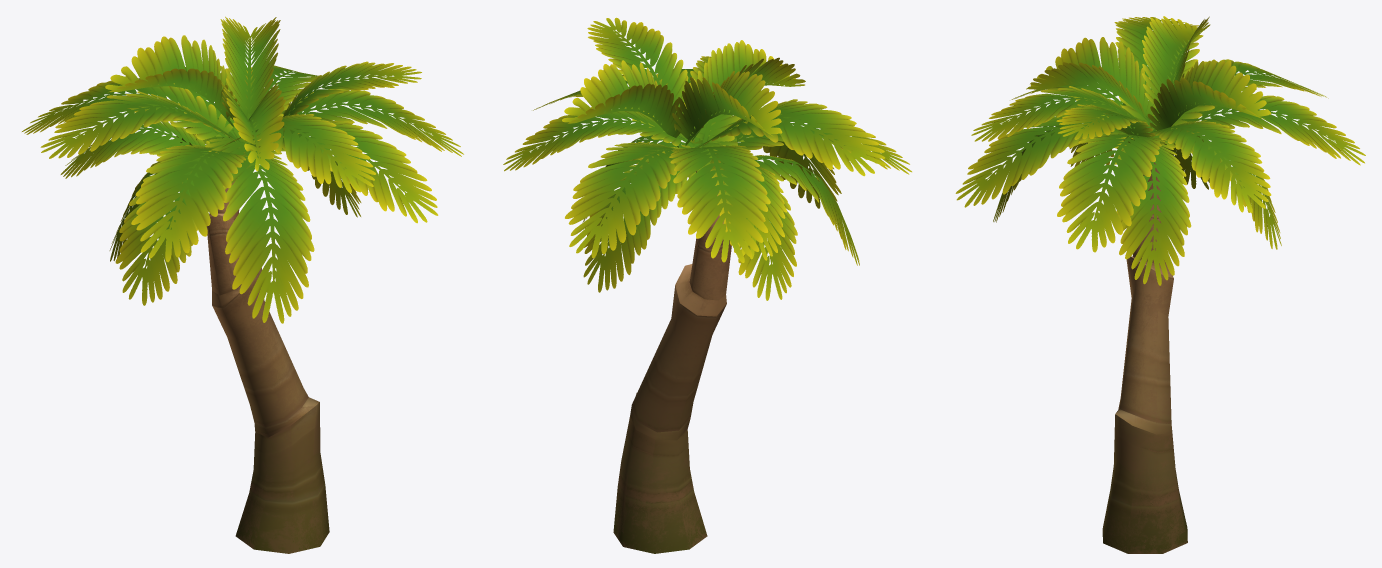
Rendered from PalmTree02.fbx.
3 renders of one model, left to right at view 1: azimuth 30°, elevation 25°; view 2: azimuth 150°, elevation 25°; view 3: azimuth 270°, elevation 25°, orthographic. The views are drawn at different scales.
Visible parts, largest first — view 1: PalmTree02_L; view 2: PalmTree02_L; view 3: PalmTree02_L.
Part boxes in pixels (x1,y1,x2,y2): PalmTree02_L: (22, 16, 463, 553); PalmTree02_L: (503, 17, 911, 553); PalmTree02_L: (955, 16, 1365, 553).
Bounding box in the file's own units: 519 × 635 × 507.
Materials: 2 (2 with a texture image).
